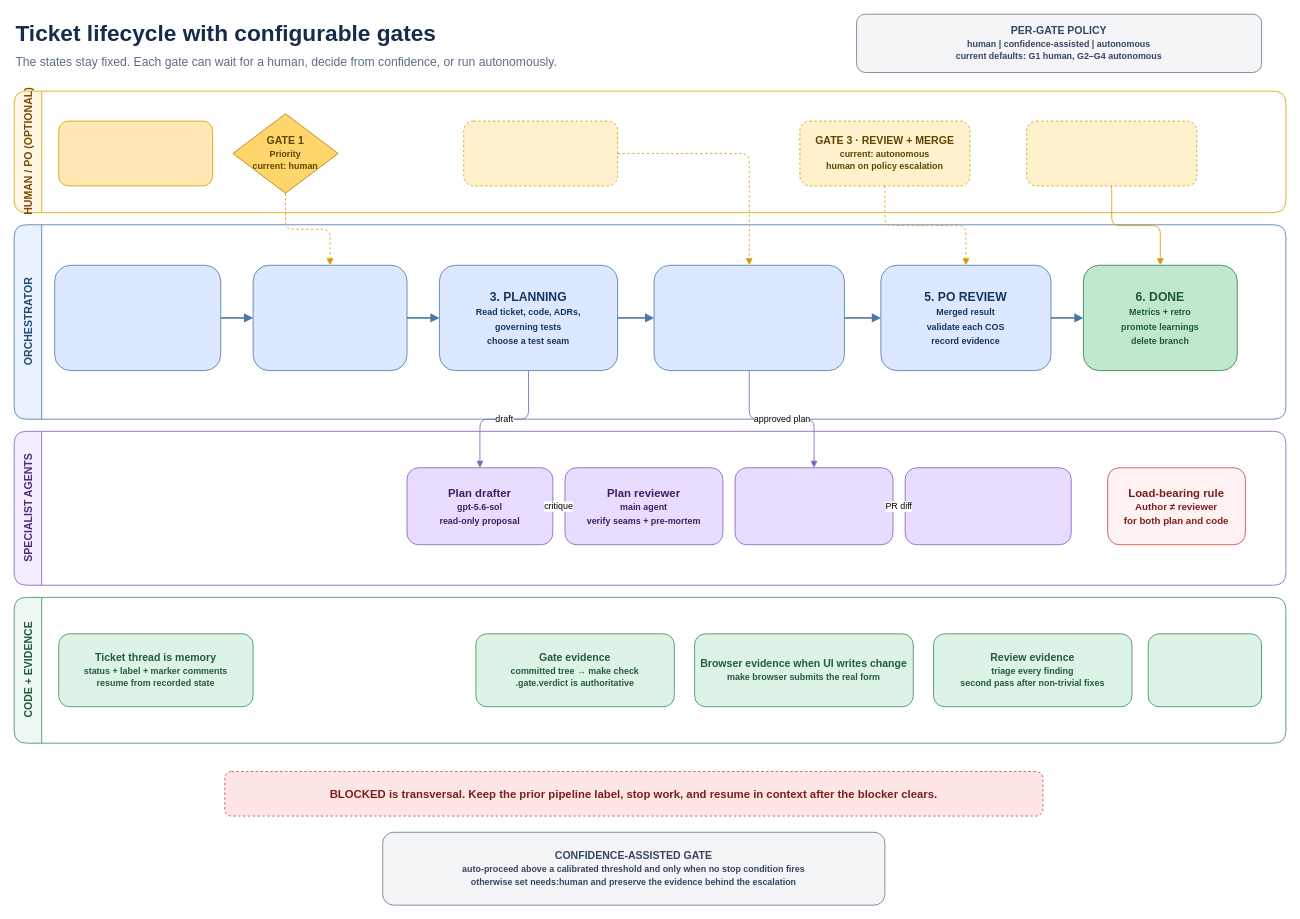
Some shapes in this 1300 by 919 pixel diagram are drawn without their labels. The shapes that lost their labels are listed below. From the top down, each one's centre as x and y in pixels, then its label:
(x=135, y=153): Shape the work Resolve product decisions and set priority
(x=540, y=153): GATE 2 · PLAN current: autonomous human on policy escalation
(x=1111, y=153): GATE 4 · ACCEPTANCE current: autonomous human on policy escalation
(x=137, y=317): 1. BACKLOG Idea → brief → PRD decompose, COS, DoR context memo + spikes
(x=329, y=317): 2. READY Approved queue zero open blockers claim + branch
(x=748, y=317): 4. BUILDING TDD, commit, local gate push, PR, review fixes review guide
(x=813, y=506): Implementer gemini-3.8-flash-high one writer, one branch
(x=987, y=506): Code reviewer gpt-5.6-sol diff-only adversarial review
(x=1204, y=670): Closeout evidence durations, diff, human wait, overrides, learnings, retro
